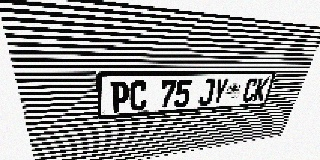5: (174, 79, 192, 108)
7: (159, 80, 177, 109)
C: (129, 80, 148, 111), (241, 78, 259, 102)
J: (198, 79, 216, 106)
K: (252, 78, 270, 102)
P: (110, 81, 129, 113)
Y: (211, 78, 229, 105)
